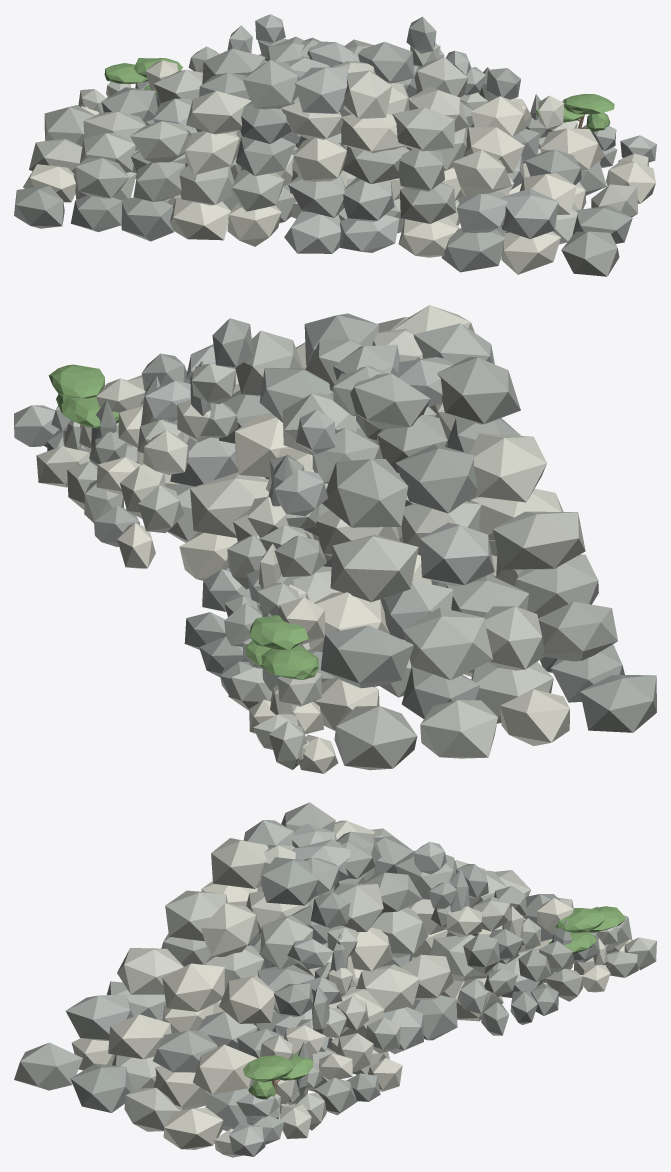
Rendered from map-upper-rocks.glb.
The picture shows the model from 3 angles, top to bottom: view 1: azimuth 30°, elevation 25°; view 2: azimuth 150°, elevation 25°; view 3: azimuth 270°, elevation 25°; orthographic projection. The views are drawn at different scales.
Visible parts, largest first — view 1: Map upper-rocks; view 2: Map upper-rocks; view 3: Map upper-rocks.
Boxes of the visible parts, box(x1,y1,x2,y2) form: Map upper-rocks: box(14, 14, 656, 276); Map upper-rocks: box(14, 305, 656, 773); Map upper-rocks: box(14, 802, 656, 1157).
Bounding box in the file's own units: 51.53 × 16.63 × 49.43.
